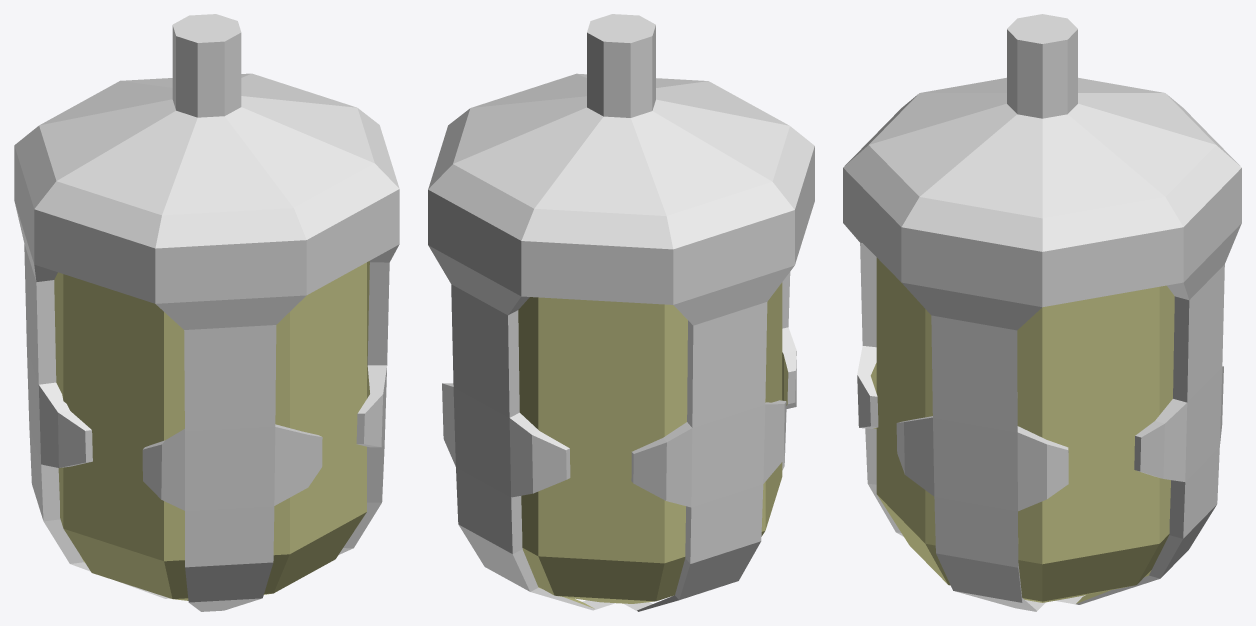
The model's file is Lamp.fbx.
3 renders of one model, left to right at view 1: azimuth 30°, elevation 25°; view 2: azimuth 150°, elevation 25°; view 3: azimuth 270°, elevation 25°, orthographic.
Parts seen in each view (by area): view 1: Lamp; view 2: Lamp; view 3: Lamp.
Boxes of the visible parts, bbox=[...] form: Lamp: bbox=[14, 14, 399, 611]; Lamp: bbox=[428, 14, 814, 611]; Lamp: bbox=[843, 14, 1241, 611].
Size of the model in its own units: 34.29 by 53.59 by 34.29.
